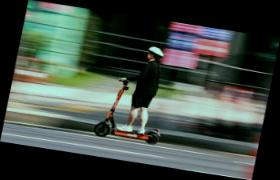helmet: (93, 38, 180, 148)
